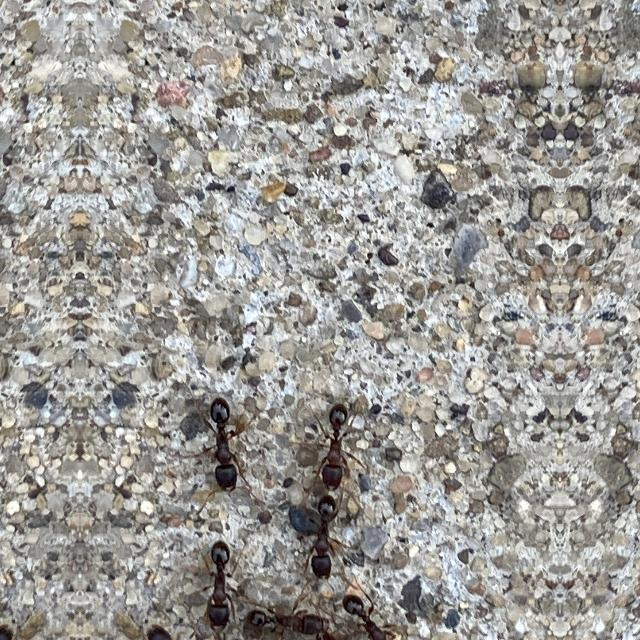Tetramorium: (282, 395, 366, 491), (190, 405, 256, 505), (298, 488, 352, 584), (324, 585, 410, 639)
